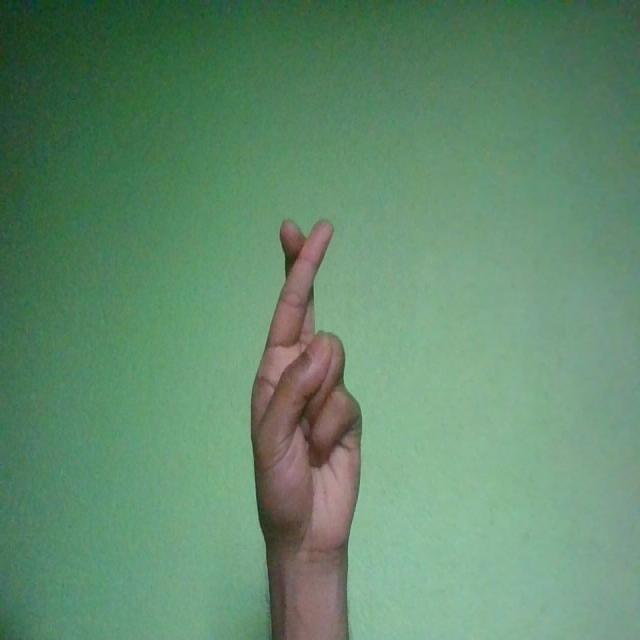Ok: (251, 218, 363, 567)
